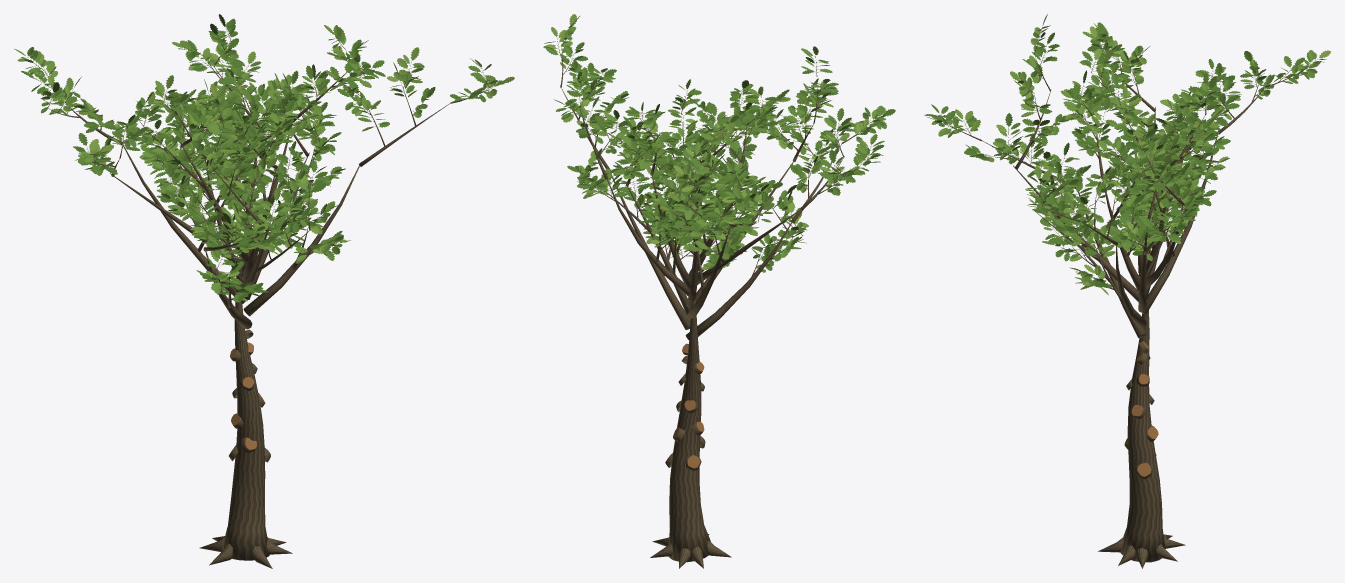
Rendered from Sessile_Oak_Mature_01_HighPruned_Recent_LOD0.fbx.
3 renders of one model, left to right at view 1: azimuth 30°, elevation 25°; view 2: azimuth 150°, elevation 25°; view 3: azimuth 270°, elevation 25°, orthographic. The views are drawn at different scales.
Visible parts, largest first — view 1: Sessile_Oak_Mature_01_HighPruned_Recent_LOD0, Sessile_Oak_Mature_01_HighPruned_Recent_LOD0_Scars; view 2: Sessile_Oak_Mature_01_HighPruned_Recent_LOD0, Sessile_Oak_Mature_01_HighPruned_Recent_LOD0_Scars; view 3: Sessile_Oak_Mature_01_HighPruned_Recent_LOD0, Sessile_Oak_Mature_01_HighPruned_Recent_LOD0_Scars.
Part boxes in pixels (box(x1,y1,x2,y2)): Sessile_Oak_Mature_01_HighPruned_Recent_LOD0: box(14, 14, 514, 568); Sessile_Oak_Mature_01_HighPruned_Recent_LOD0_Scars: box(229, 329, 270, 462); Sessile_Oak_Mature_01_HighPruned_Recent_LOD0: box(543, 14, 895, 568); Sessile_Oak_Mature_01_HighPruned_Recent_LOD0_Scars: box(665, 343, 705, 470); Sessile_Oak_Mature_01_HighPruned_Recent_LOD0: box(924, 14, 1330, 568); Sessile_Oak_Mature_01_HighPruned_Recent_LOD0_Scars: box(1124, 341, 1158, 479).
Bounding box in the file's own units: 1564 × 1999 × 1473.
6 materials, 2 textured.
